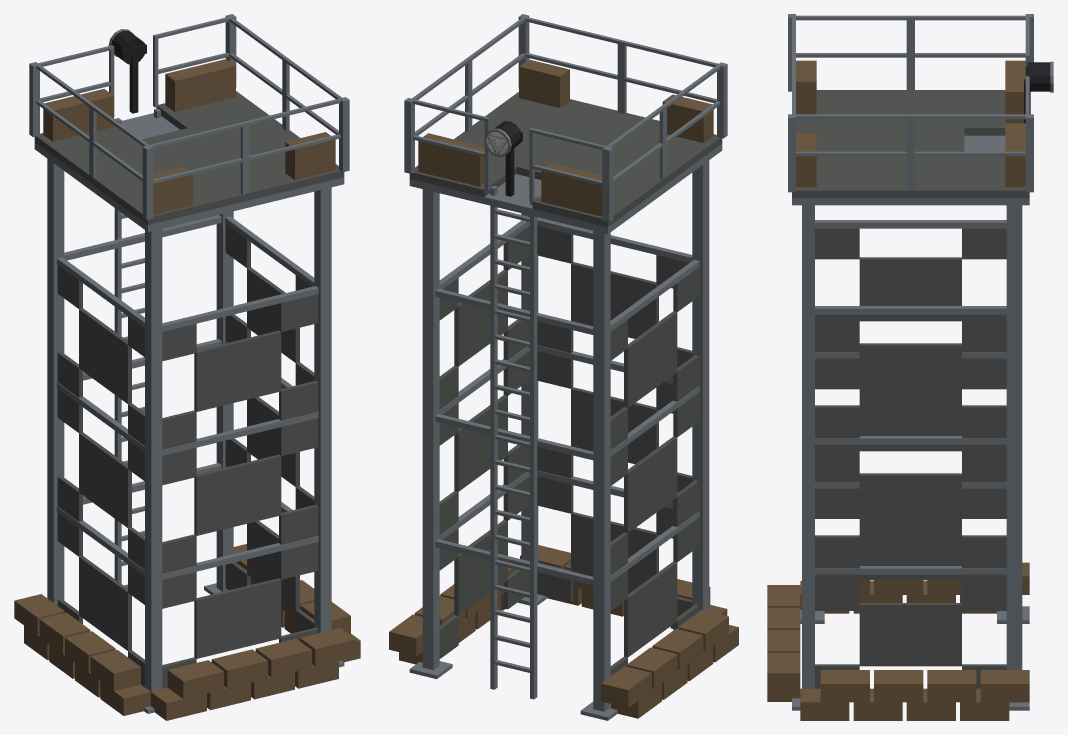
File: camp_tower_metal.glb
3 renders of one model, left to right at view 1: azimuth 30°, elevation 25°; view 2: azimuth 150°, elevation 25°; view 3: azimuth 270°, elevation 25°, orthographic. The views are drawn at different scales.
Visible parts, largest first — view 1: camp_tower_metal; view 2: camp_tower_metal; view 3: camp_tower_metal.
Part boxes in pixels (left/top/right/bottom): camp_tower_metal: left=14, top=14, right=360, bottom=720; camp_tower_metal: left=389, top=14, right=738, bottom=720; camp_tower_metal: left=767, top=14, right=1053, bottom=720.
Size of what is drawn, in the model's own units: 3.5 by 8.04 by 3.49.
1 material, 1 textured.
